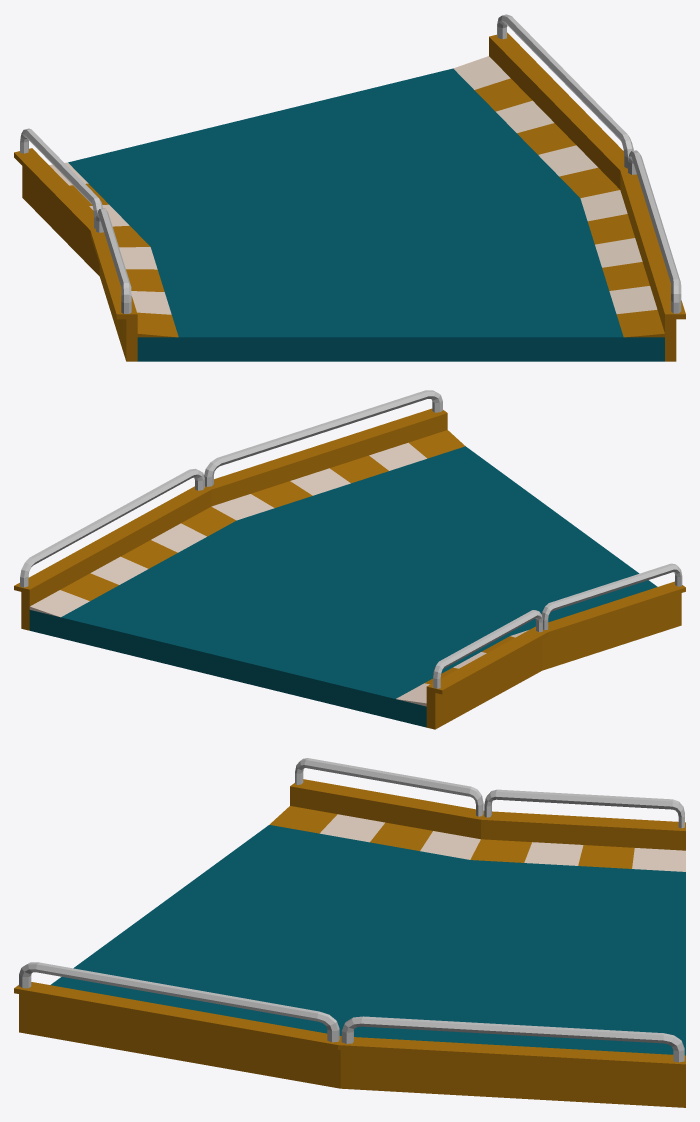
File: curveRight-30_s.FBX
3 views of the same model, one above another, from view 1: azimuth 30°, elevation 25°; view 2: azimuth 150°, elevation 25°; view 3: azimuth 270°, elevation 25° (orthographic). The views are drawn at different scales.
Parts seen in each view (by area): view 1: curveRight-30_s, wall_l, curbs_l, wall_r, curbs_r; view 2: curveRight-30_s, wall_l, wall_r, curbs_l, curbs_r; view 3: curveRight-30_s, wall_l, wall_r, curbs_r.
Boxes of the visible parts, bbox=[...] form: curveRight-30_s: bbox=[68, 68, 664, 361]; wall_l: bbox=[489, 14, 685, 361]; curbs_l: bbox=[453, 56, 664, 337]; wall_r: bbox=[14, 128, 137, 361]; curbs_r: bbox=[49, 162, 178, 337]; curveRight-30_s: bbox=[29, 446, 657, 727]; wall_l: bbox=[14, 390, 447, 630]; wall_r: bbox=[426, 563, 685, 729]; curbs_l: bbox=[29, 430, 465, 617]; curbs_r: bbox=[396, 630, 528, 706]; curveRight-30_s: bbox=[50, 825, 685, 1055]; wall_l: bbox=[14, 962, 685, 1107]; wall_r: bbox=[290, 758, 685, 850]; curbs_r: bbox=[269, 806, 685, 871].
Size of what is drawn, in the model's own units: 244 by 29.31 by 243.
